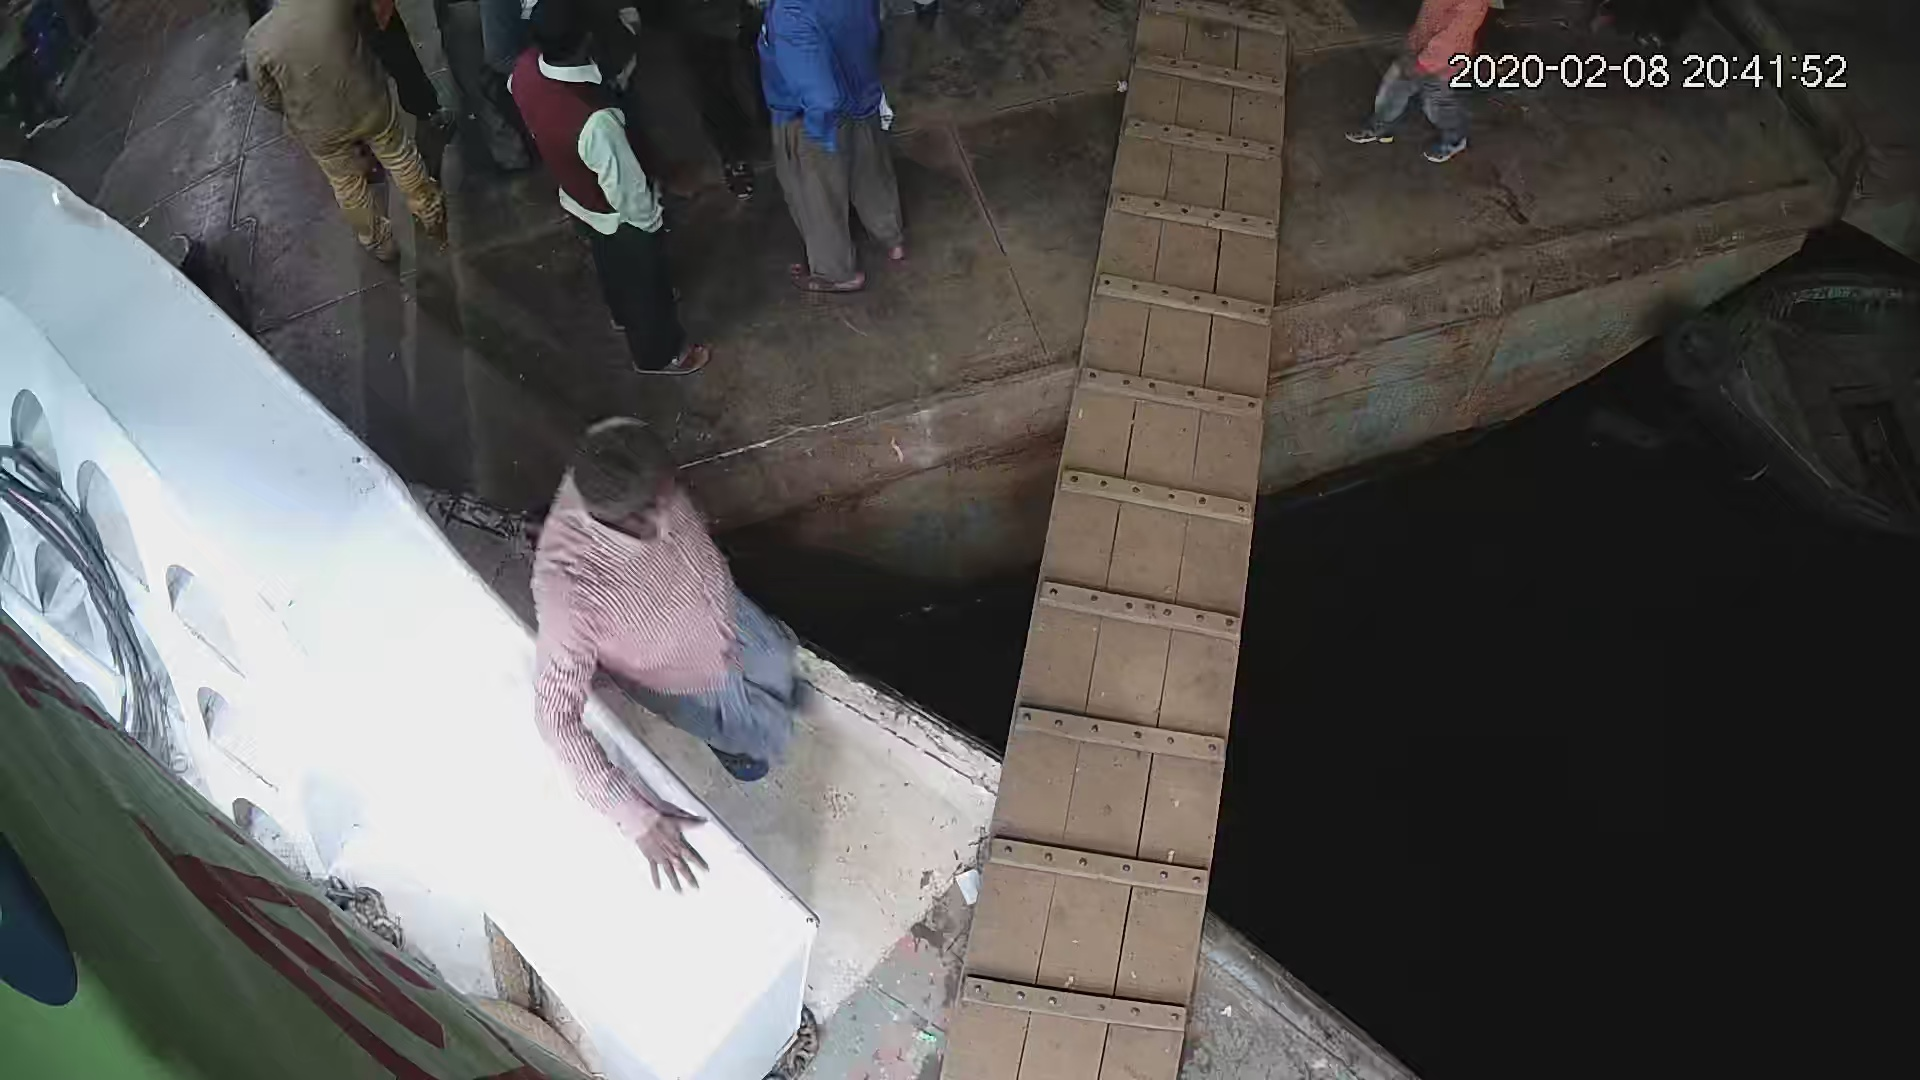person: (527, 407, 825, 809), (494, 9, 717, 391), (237, 1, 450, 265), (742, 1, 919, 301)
